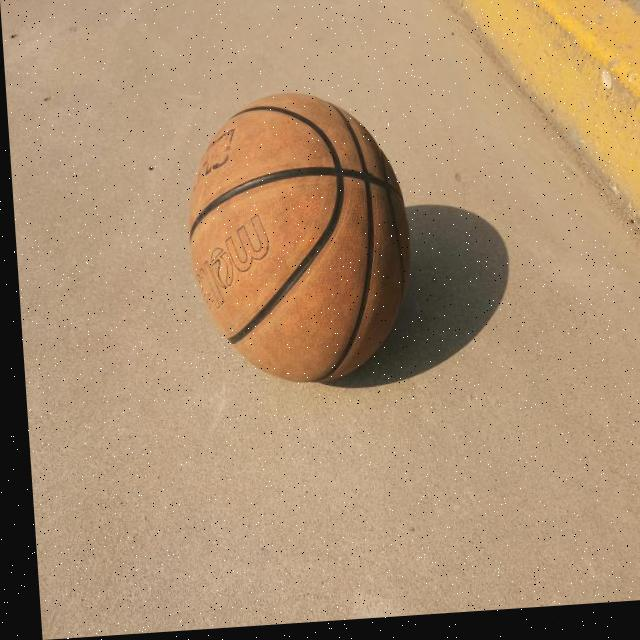Basketball: (178, 90, 419, 394)
